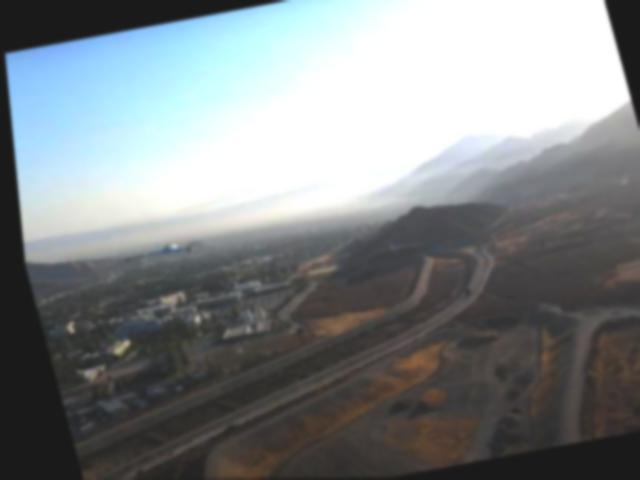iha: (110, 227, 195, 268)
